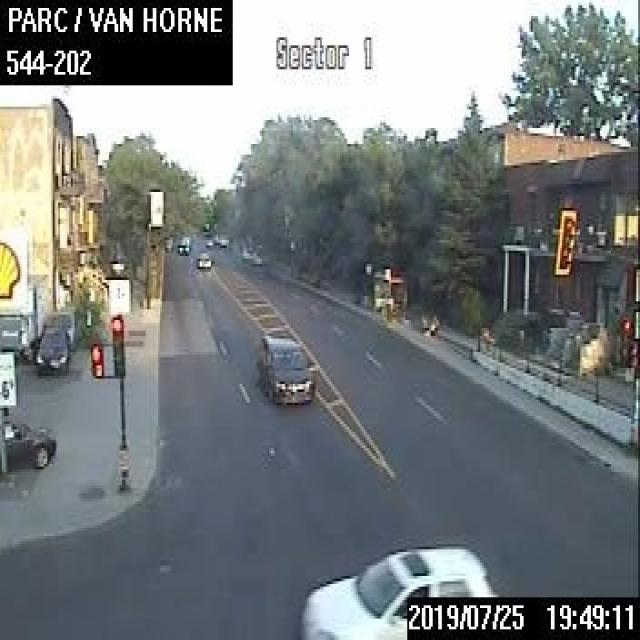vehicle: (296, 542, 494, 638), (0, 272, 47, 360), (255, 333, 312, 402), (3, 414, 55, 471), (35, 325, 71, 370), (44, 303, 78, 348), (195, 250, 211, 267), (240, 245, 253, 258), (176, 240, 188, 253), (204, 236, 213, 246)
